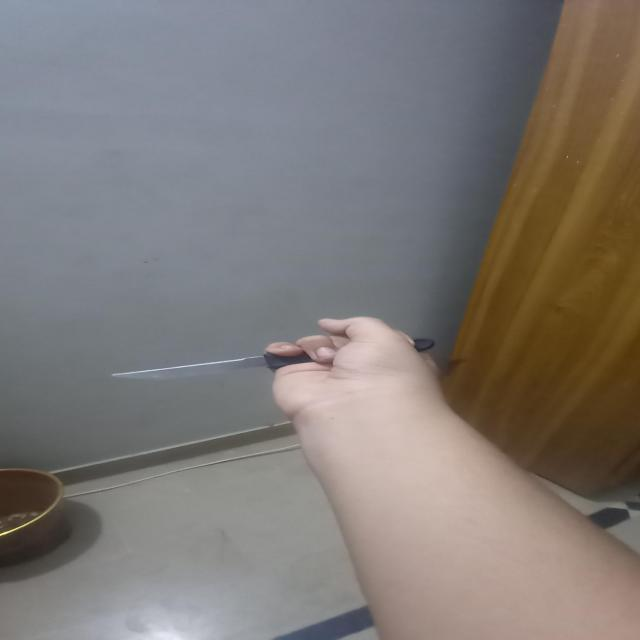weapon: (112, 331, 438, 382)
